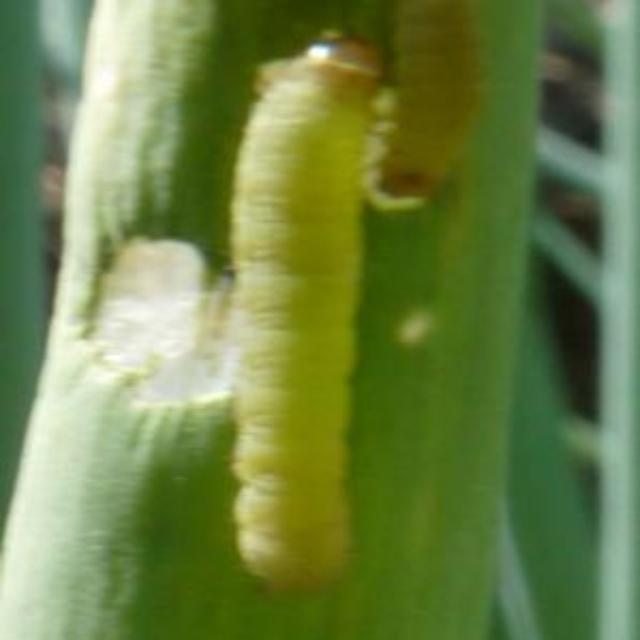Beet armyworm: (148, 16, 462, 608)
